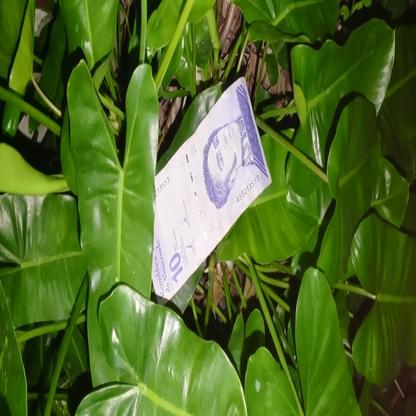ten-front-vef: (141, 76, 273, 309)
